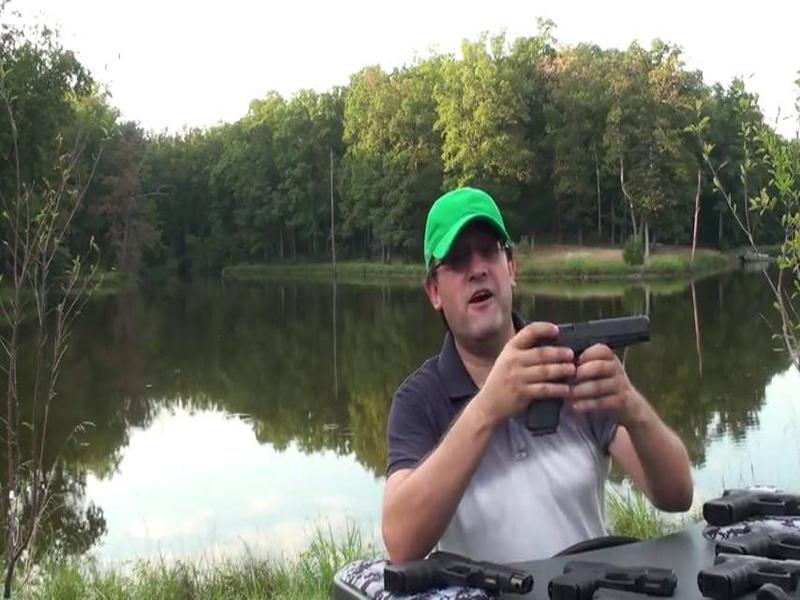Pistola: (524, 304, 659, 430), (376, 544, 533, 595), (546, 553, 677, 600)
